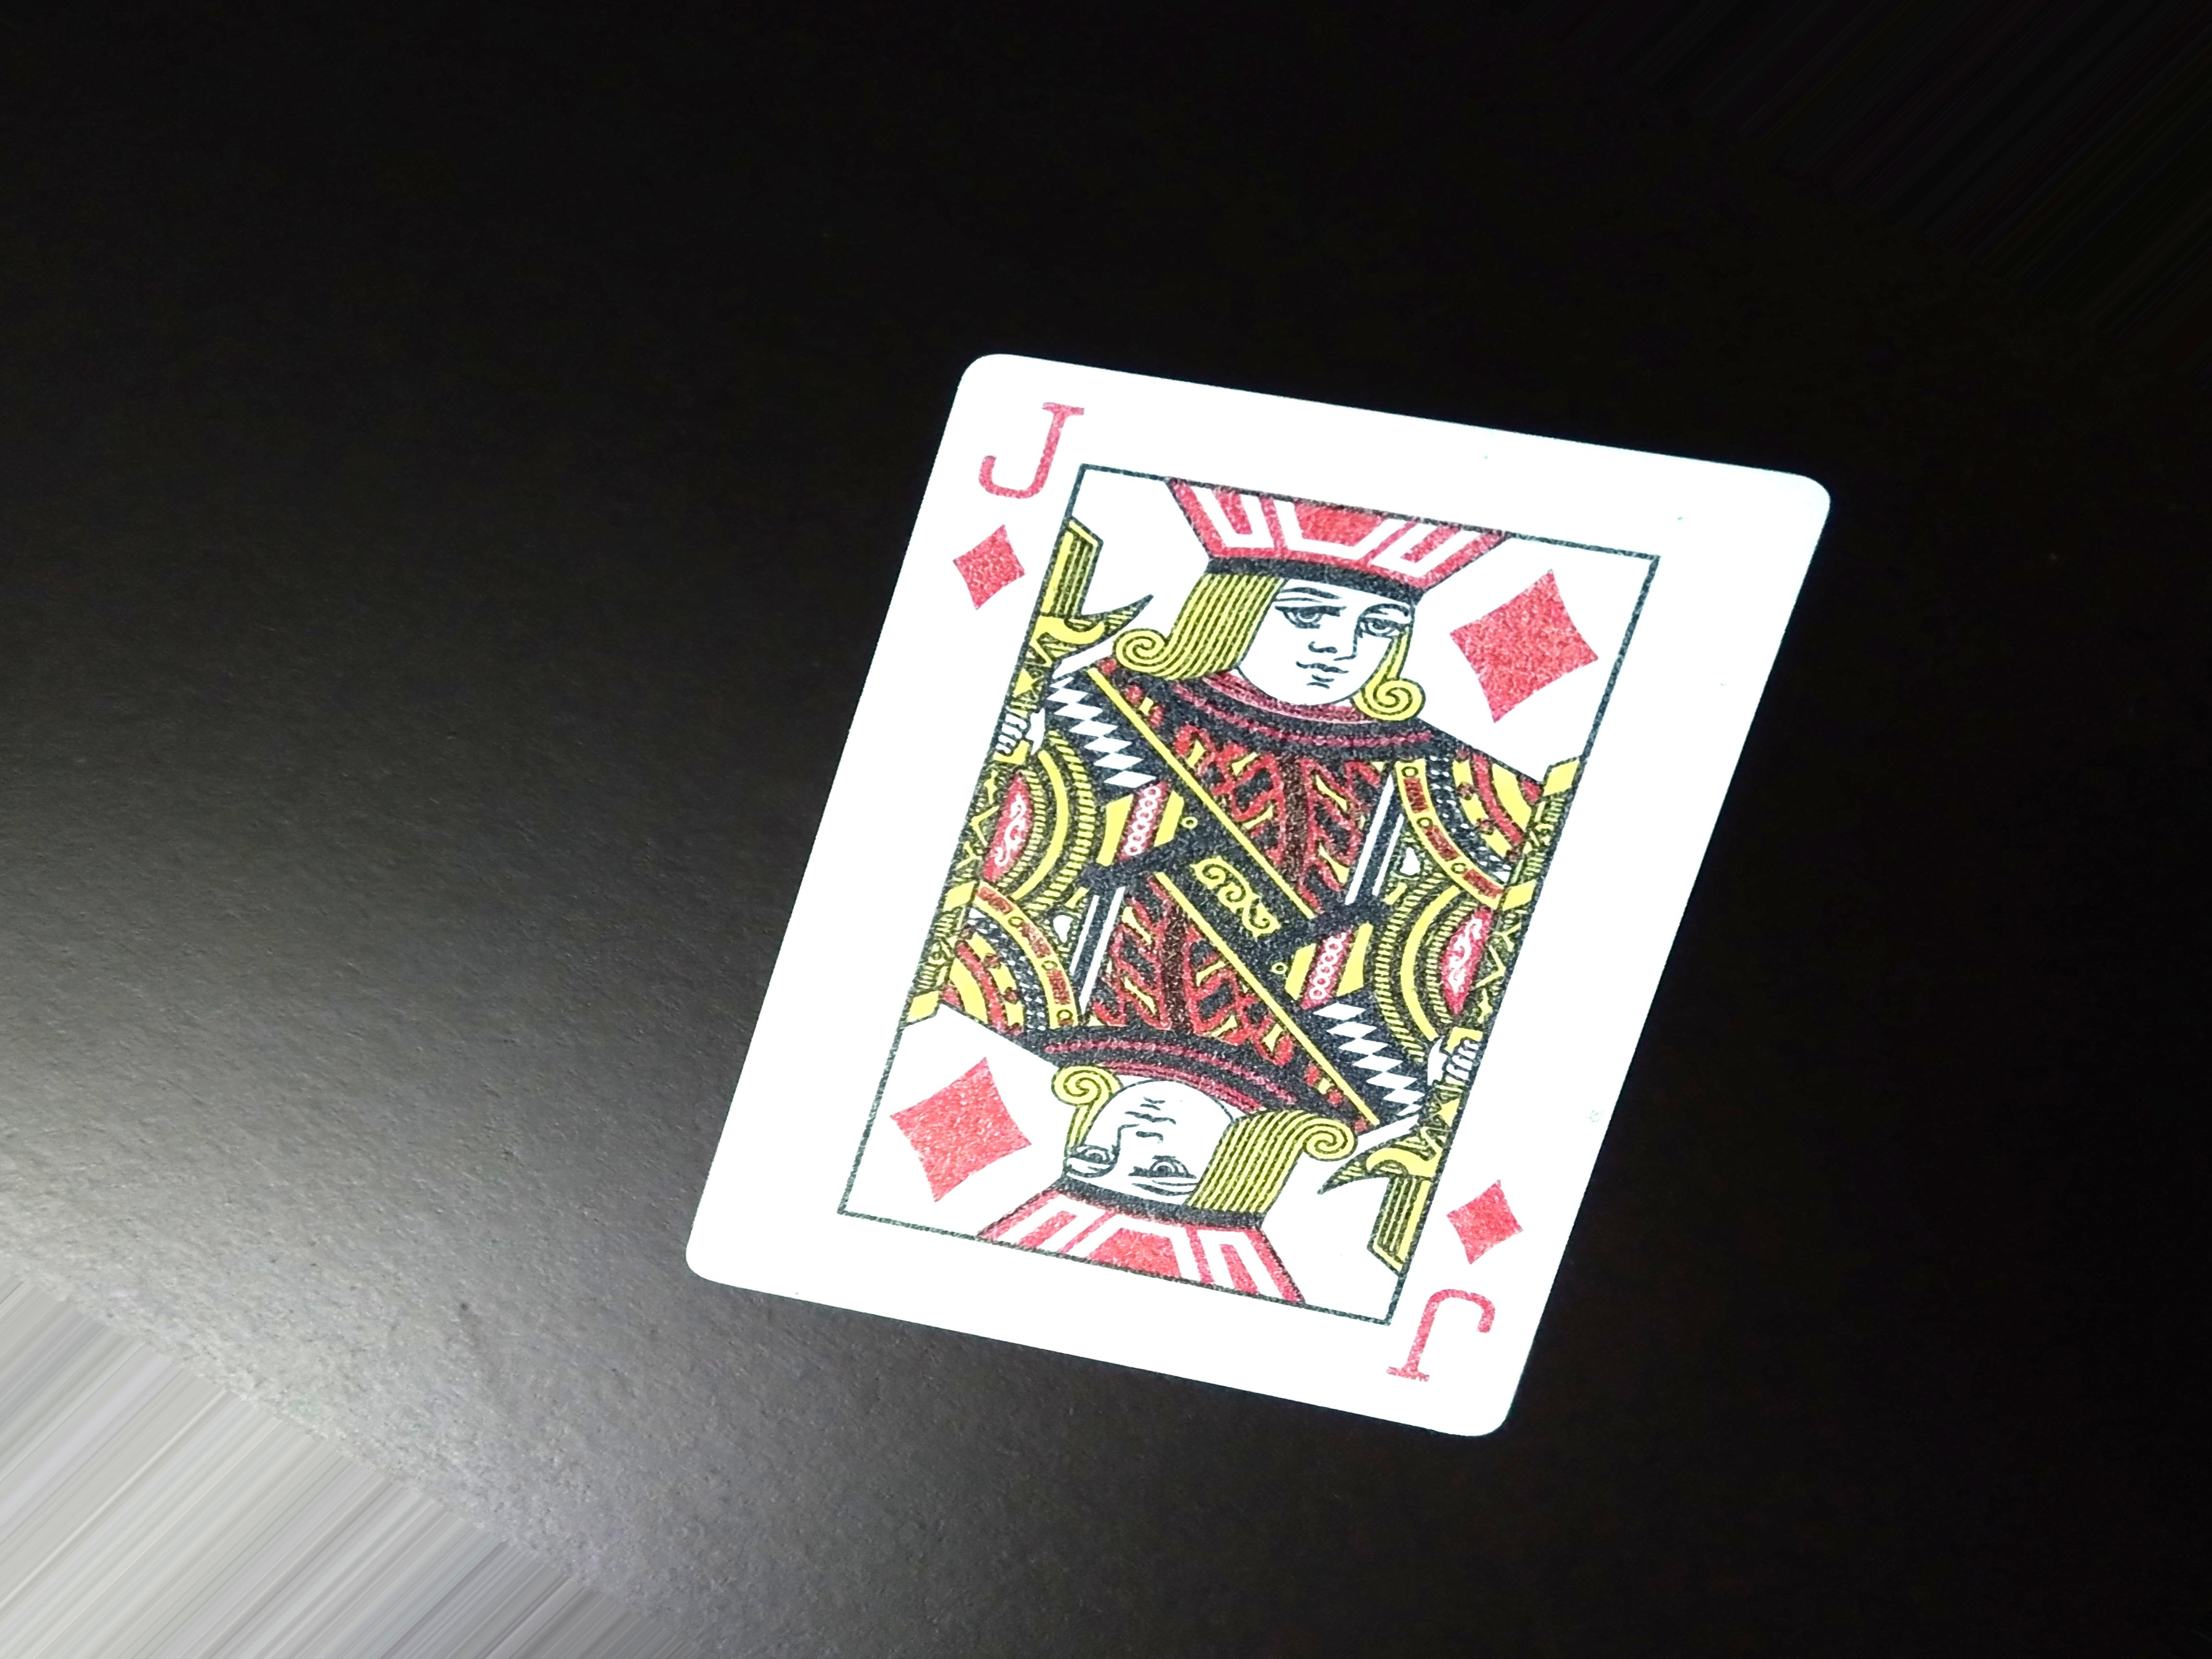JD: (1397, 1178, 1522, 1377)
